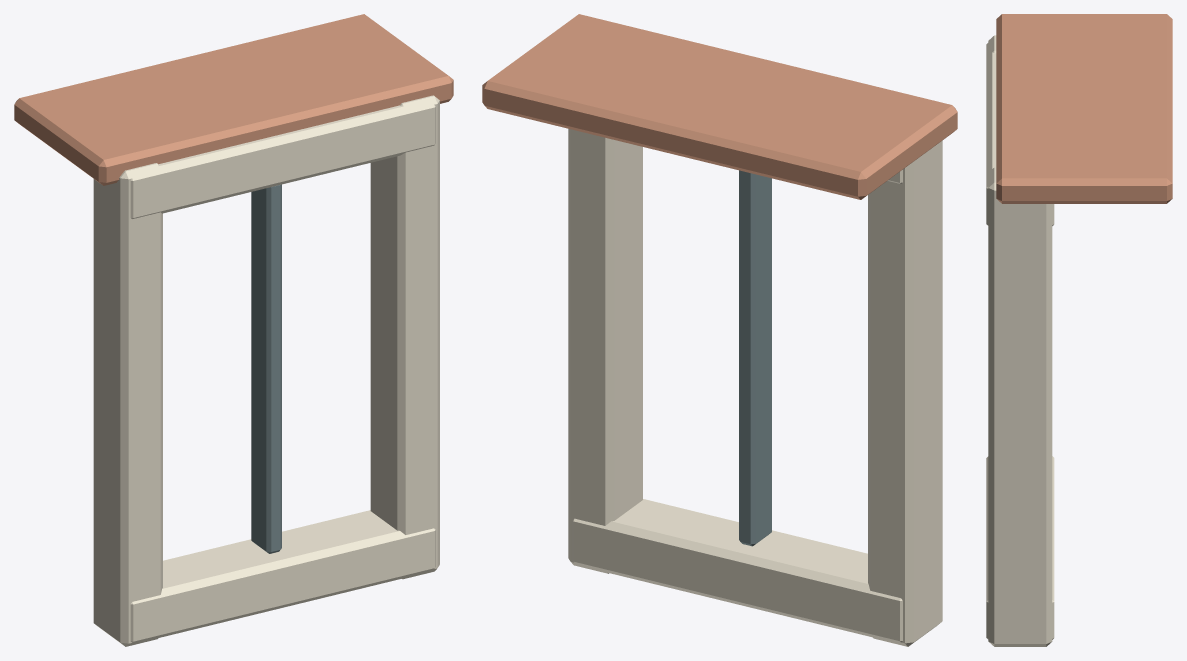
File: window_upper_1m.glb
3 renders of one model, left to right at view 1: azimuth 30°, elevation 25°; view 2: azimuth 150°, elevation 25°; view 3: azimuth 270°, elevation 25°, orthographic. The views are drawn at different scales.
Parts seen in each view (by area): view 1: window_upper_1m; view 2: window_upper_1m; view 3: window_upper_1m.
Boxes of the visible parts, box(x1,y1,x2,y2) form: window_upper_1m: box(14, 14, 453, 646); window_upper_1m: box(482, 14, 957, 646); window_upper_1m: box(986, 14, 1172, 646).
Size of the model in its own units: 1 by 1.31 by 0.465.
